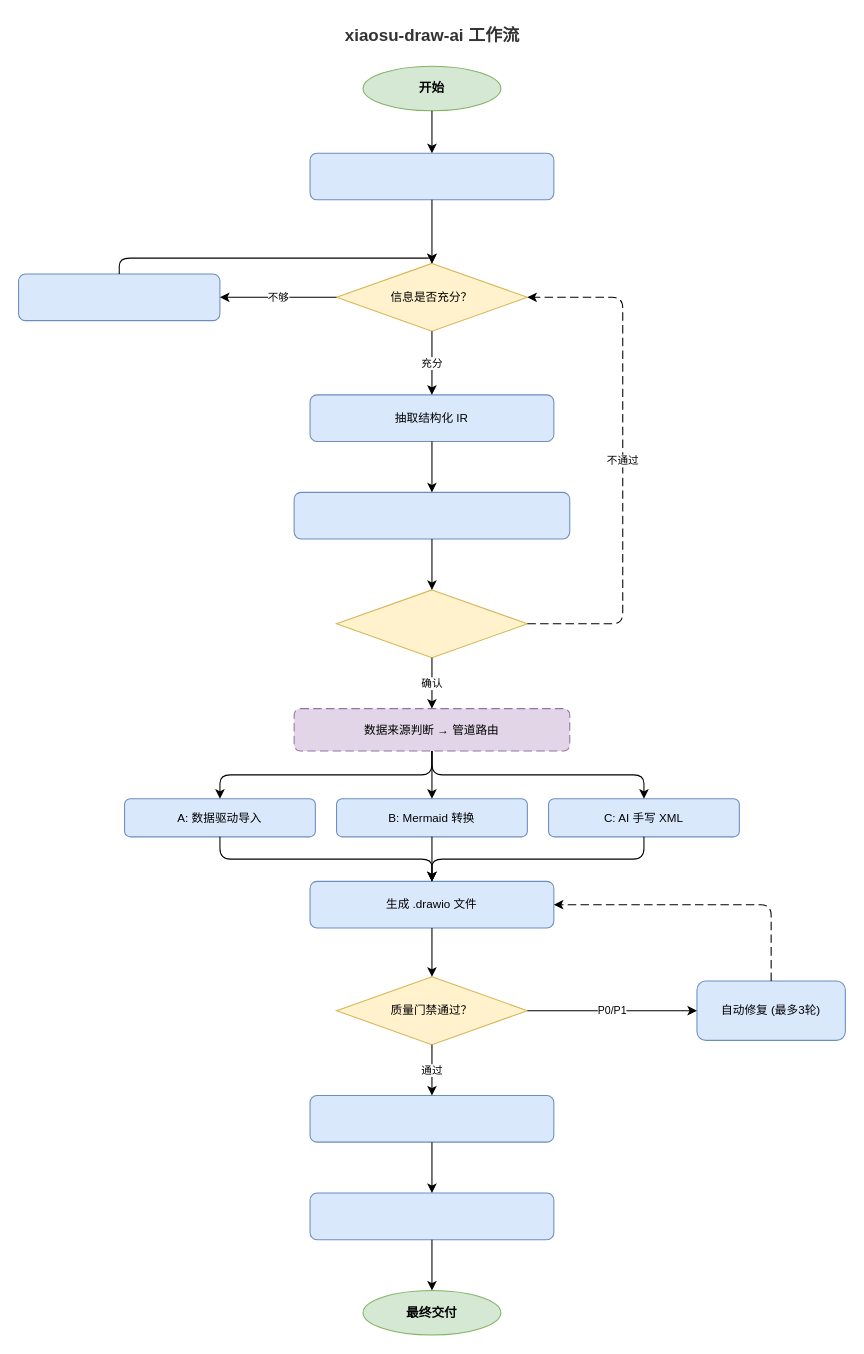
Some shapes in this 864 by 1354 pixel diagram are drawn without their labels. The shapes that lost their labels are listed below. From the top down, each one's centre as x and y in pixels, then its label:
(431,176): 用户自然语言描述需求
(118,297): AI 追问缺失信息
(431,515): IR 摘要展示给用户确认
(431,623): 用户确认？
(431,1118): 导出 PNG 预览
(431,1216): 视觉自检
